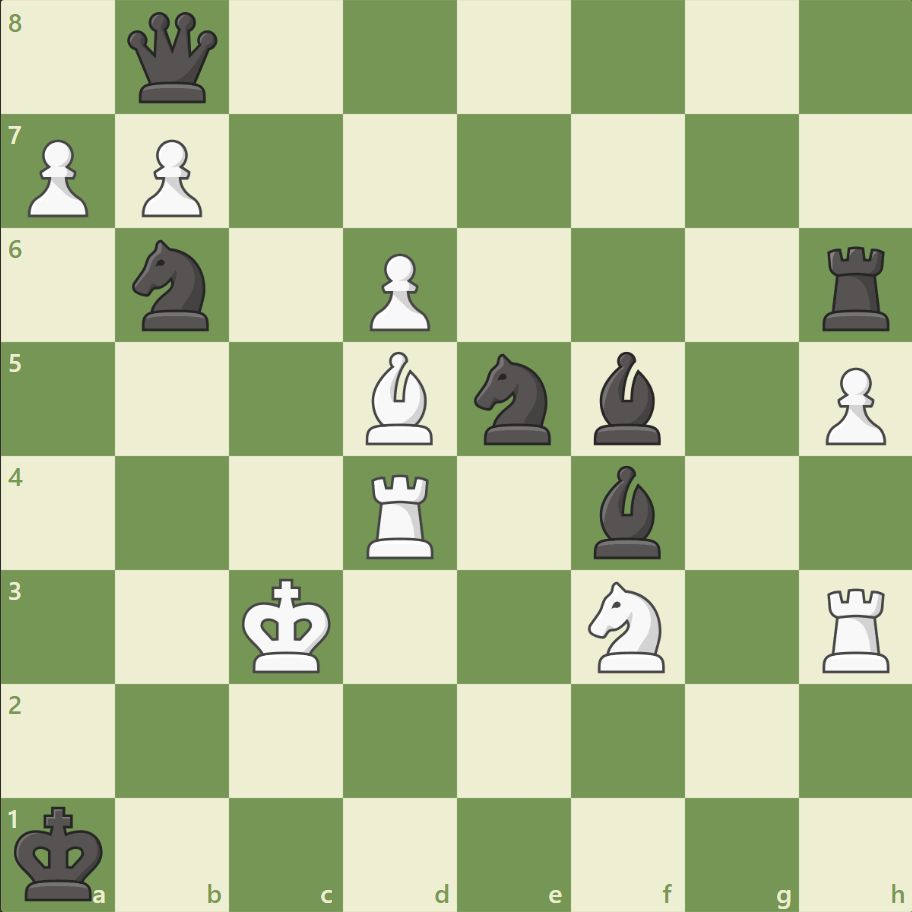B: (358, 347, 442, 449)
K: (238, 571, 338, 679)
N: (579, 575, 676, 677)
P: (20, 132, 95, 223), (133, 132, 208, 223), (361, 246, 435, 337), (815, 359, 889, 450)
R: (814, 579, 897, 676), (360, 466, 442, 563)
b: (585, 460, 669, 563), (585, 347, 669, 449)
k: (11, 798, 111, 906)
n: (124, 234, 222, 337), (465, 348, 562, 450)
q: (124, 9, 223, 108)
r: (814, 239, 897, 336)
